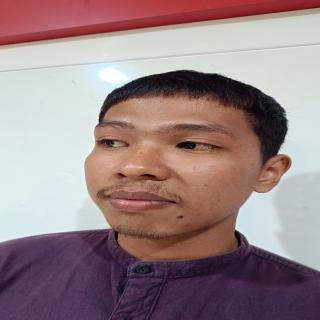Takut: (78, 97, 266, 241)
